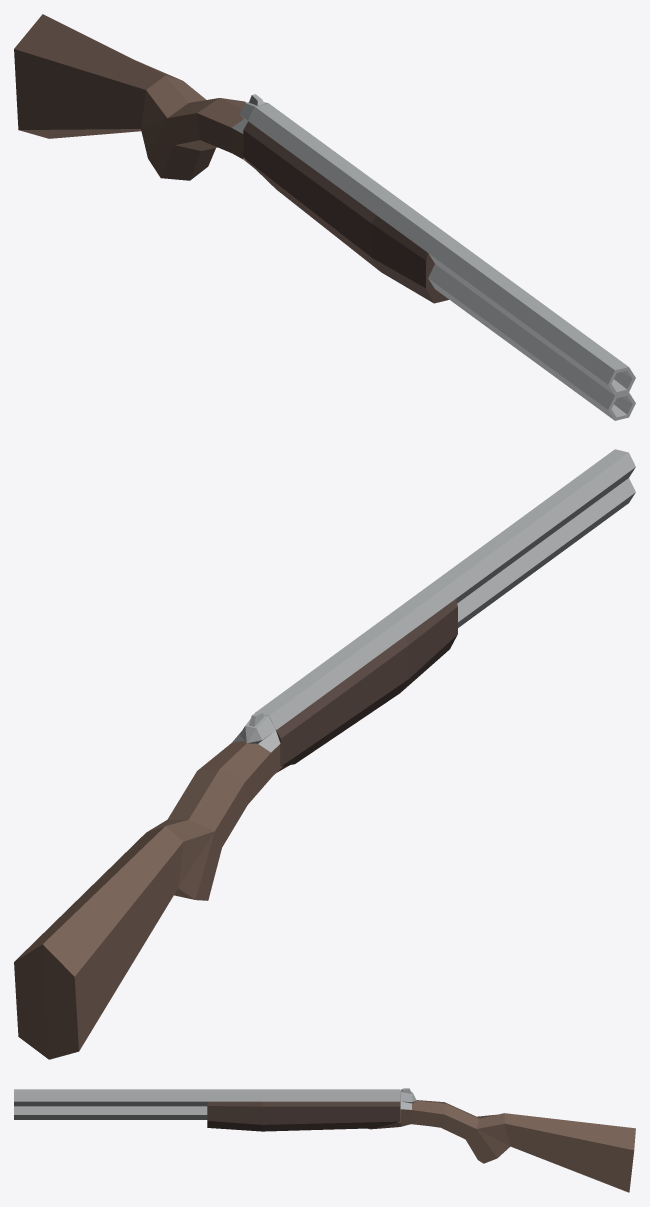
The model's file is Guns.fbx.
3 renders of one model, top to bottom at view 1: azimuth 30°, elevation 25°; view 2: azimuth 150°, elevation 25°; view 3: azimuth 270°, elevation 25°, orthographic. The views are drawn at different scales.
Parts seen in each view (by area): view 1: GunBarrel, GunHandle; view 2: GunHandle, GunBarrel; view 3: GunBarrel, GunHandle.
Boxes of the visible parts, bbox=[...] form: GunBarrel: bbox=[243, 103, 635, 420]; GunHandle: bbox=[14, 14, 268, 180]; GunHandle: bbox=[14, 712, 289, 1059]; GunBarrel: bbox=[255, 449, 635, 766]; GunBarrel: bbox=[14, 1089, 400, 1131]; GunHandle: bbox=[368, 1088, 635, 1192].
Size of the model in its own units: 6.81 by 20.82 by 113.
